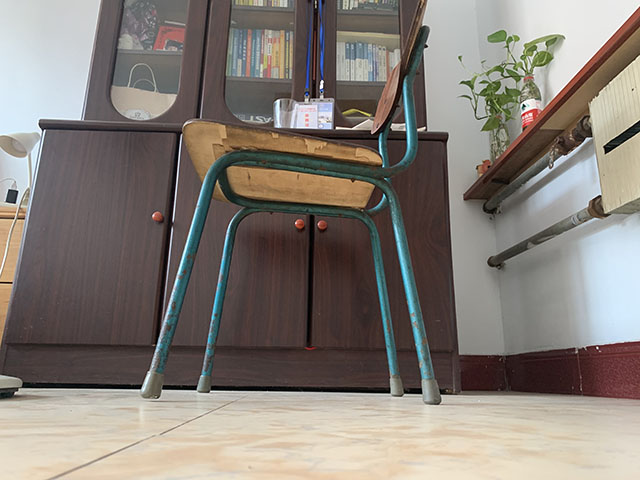cabinet: (1, 115, 463, 396)
stool: (137, 1, 444, 407)
